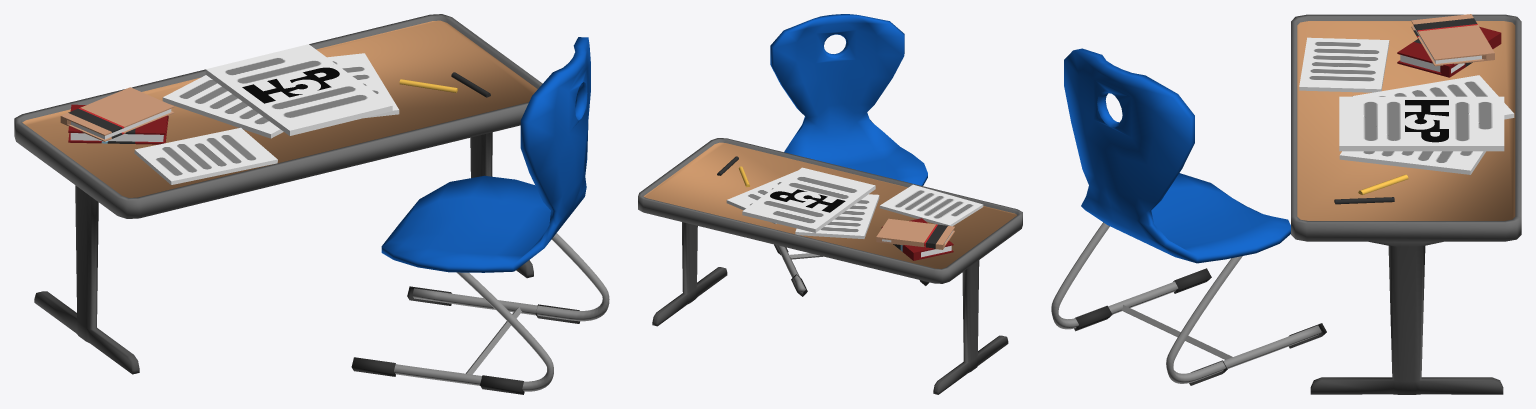
3 views of the same model, side by side, from view 1: azimuth 30°, elevation 25°; view 2: azimuth 150°, elevation 25°; view 3: azimuth 270°, elevation 25° (orthographic). The views are drawn at different scales.
Parts seen in each view (by area): view 1: Plane.010; view 2: Plane.010; view 3: Plane.010.
Boxes of the visible parts, <box> form: Plane.010: <box>14,14,609,394</box>; Plane.010: <box>638,14,1022,394</box>; Plane.010: <box>1051,14,1521,394</box>.
Size of the model in its own units: 1.65 by 1.1 by 1.57.
Materials: 3 (3 with a texture image).
